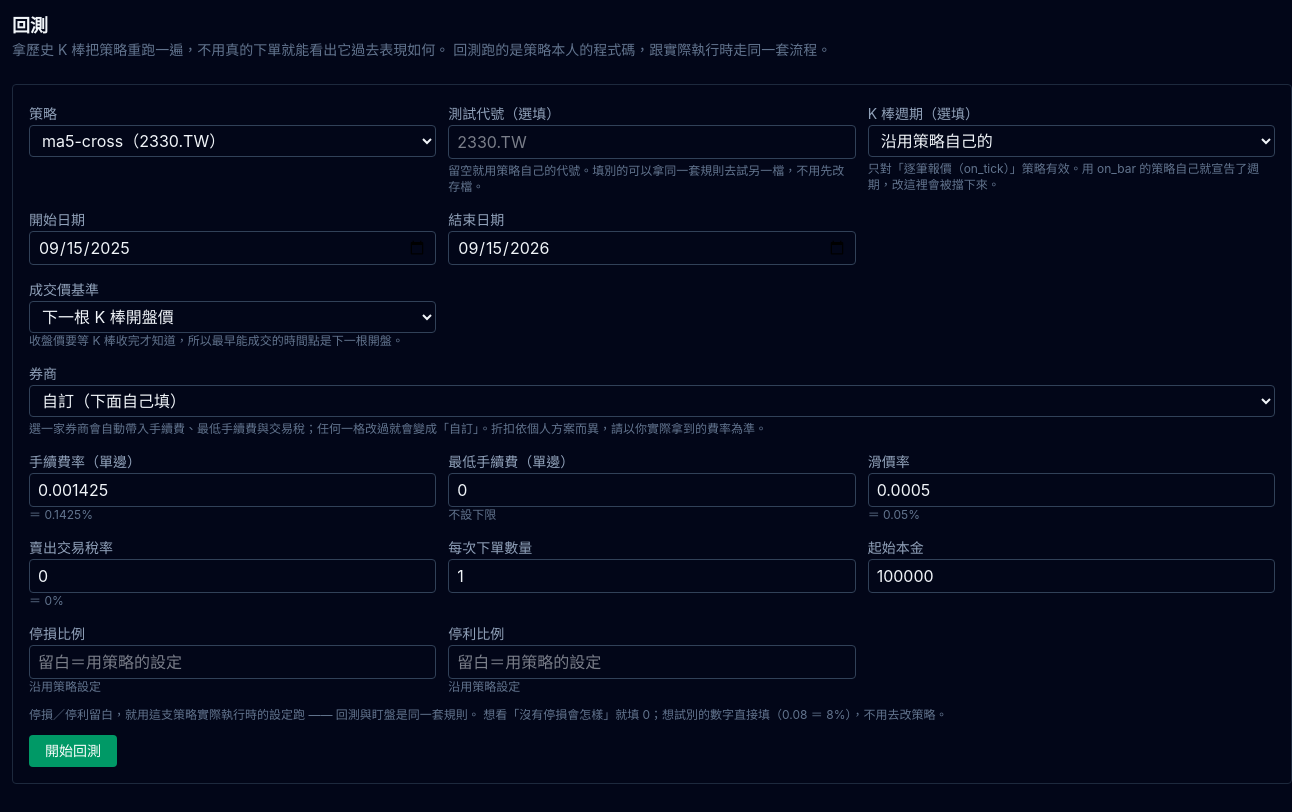
it: picking a broker instead of inventing cost numbers › fills the cost fields from the chosen broker
Select "國泰證券（電子下單 2.8 折）" in the dropdown labelled "券商": (652, 401) [29,385,1275,417]
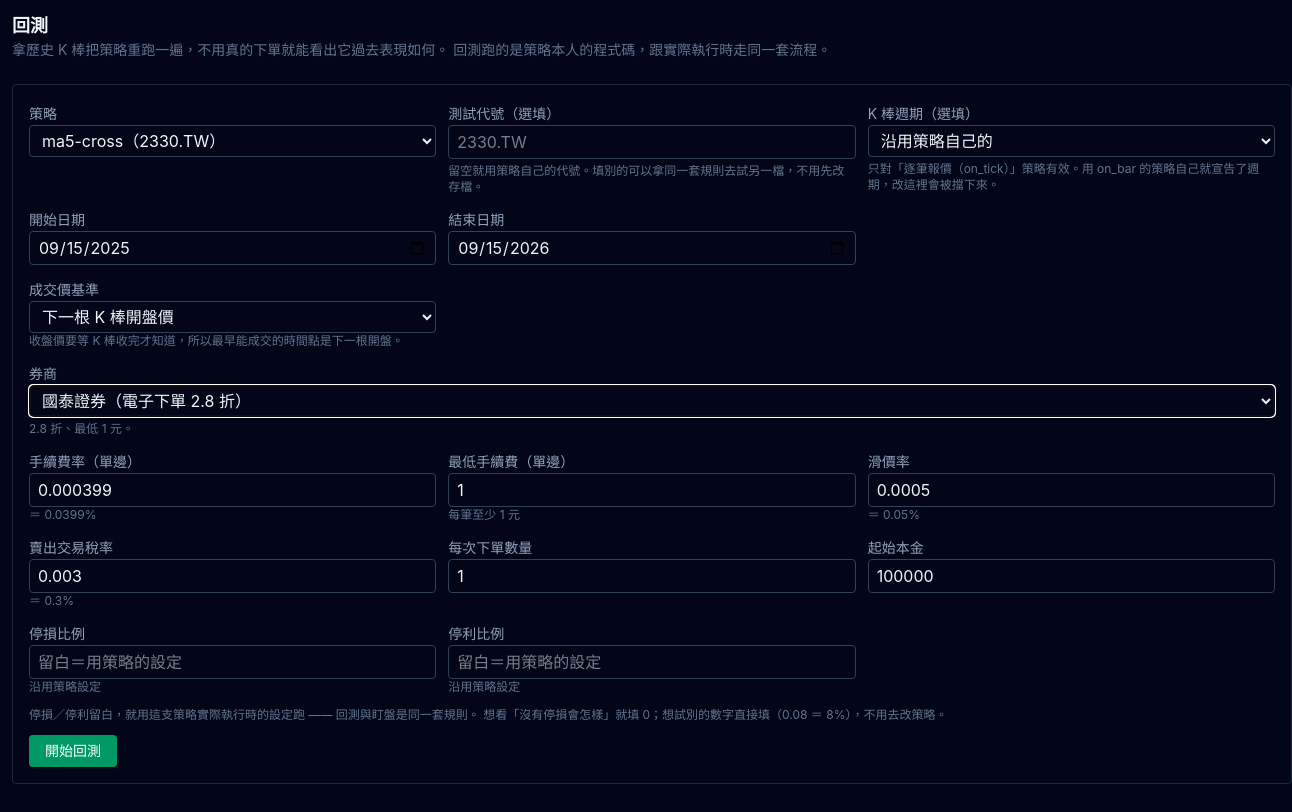
Now the field labelled "手續費率（單邊）" holds "0.000399", box [29,473,436,507]
Now the field labelled "最低手續費（單邊）" holds "1", box [448,473,856,507]
Now the field labelled "賣出交易稅率" holds "0.003", box [29,559,436,593]
